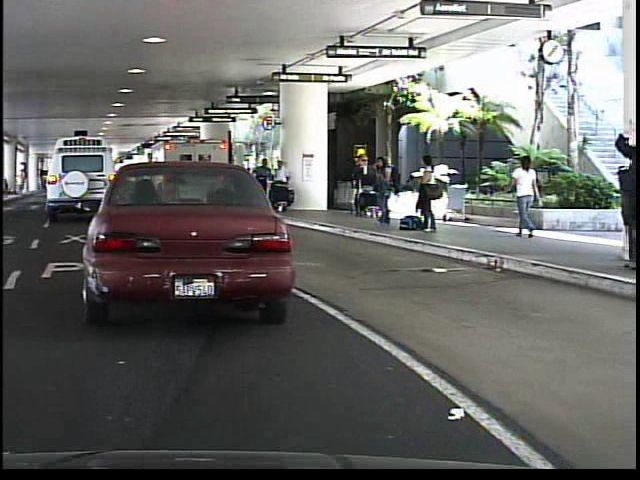person: (614, 114, 639, 272), (505, 154, 543, 240), (410, 152, 438, 234)
